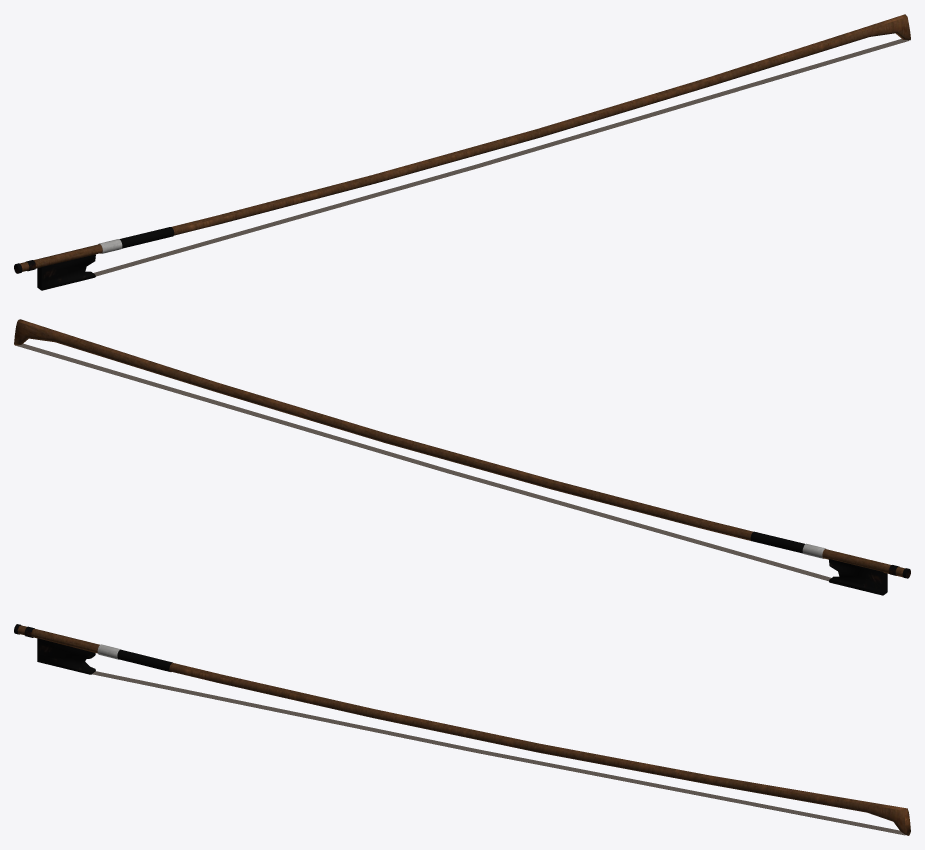
The model's file is violin_string_v01.glb.
The picture shows the model from 3 angles, top to bottom: view 1: azimuth 30°, elevation 25°; view 2: azimuth 150°, elevation 25°; view 3: azimuth 330°, elevation 25°; orthographic projection.
Visible parts, largest first — view 1: Box005; view 2: Box005; view 3: Box005.
Boxes of the visible parts, box(x1,y1,x2,y2) form: Box005: box(14, 14, 910, 290); Box005: box(14, 319, 910, 595); Box005: box(14, 624, 910, 835).
Size of the model in its own units: 1.85 by 0.1255 by 0.0195.
Materials: 1 (1 with a texture image).
